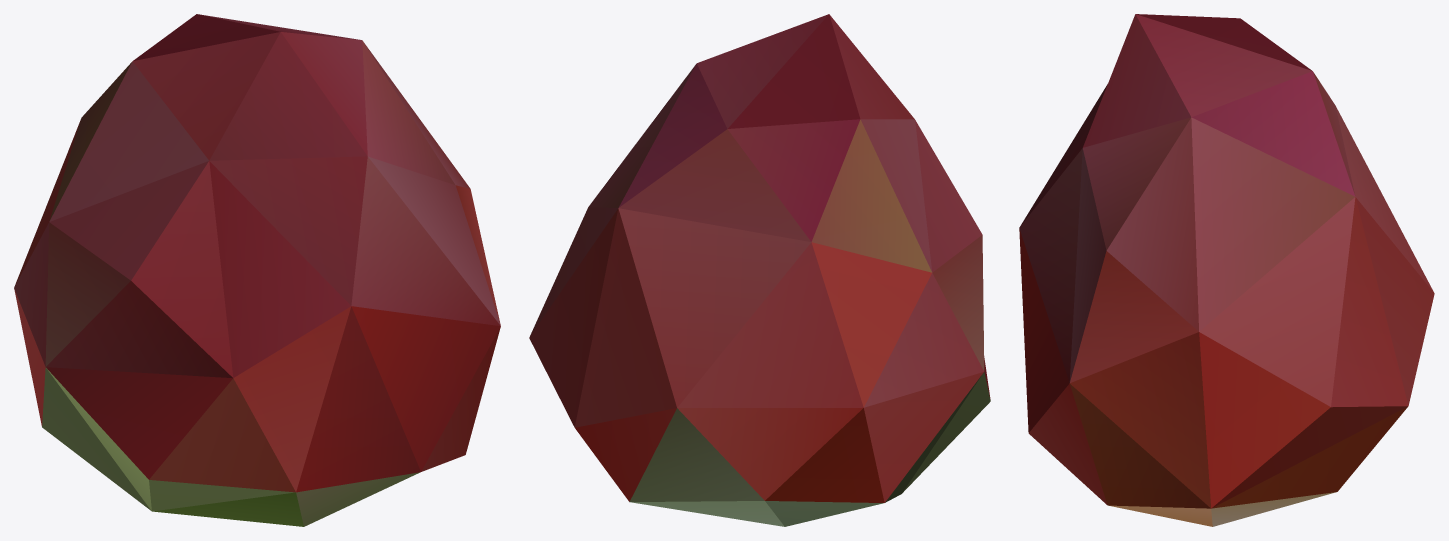
3 renders of one model, left to right at view 1: azimuth 30°, elevation 25°; view 2: azimuth 150°, elevation 25°; view 3: azimuth 270°, elevation 25°, orthographic. The views are drawn at different scales.
Parts seen in each view (by area): view 1: strawberry_06_visual; view 2: strawberry_06_visual; view 3: strawberry_06_visual.
Part boxes in pixels (left/top/right/bottom): strawberry_06_visual: left=14, top=14, right=500, bottom=526; strawberry_06_visual: left=529, top=14, right=990, bottom=526; strawberry_06_visual: left=1019, top=14, right=1434, bottom=526.
Size of the model in its own units: 0.8772 by 0.7828 by 0.9744.
